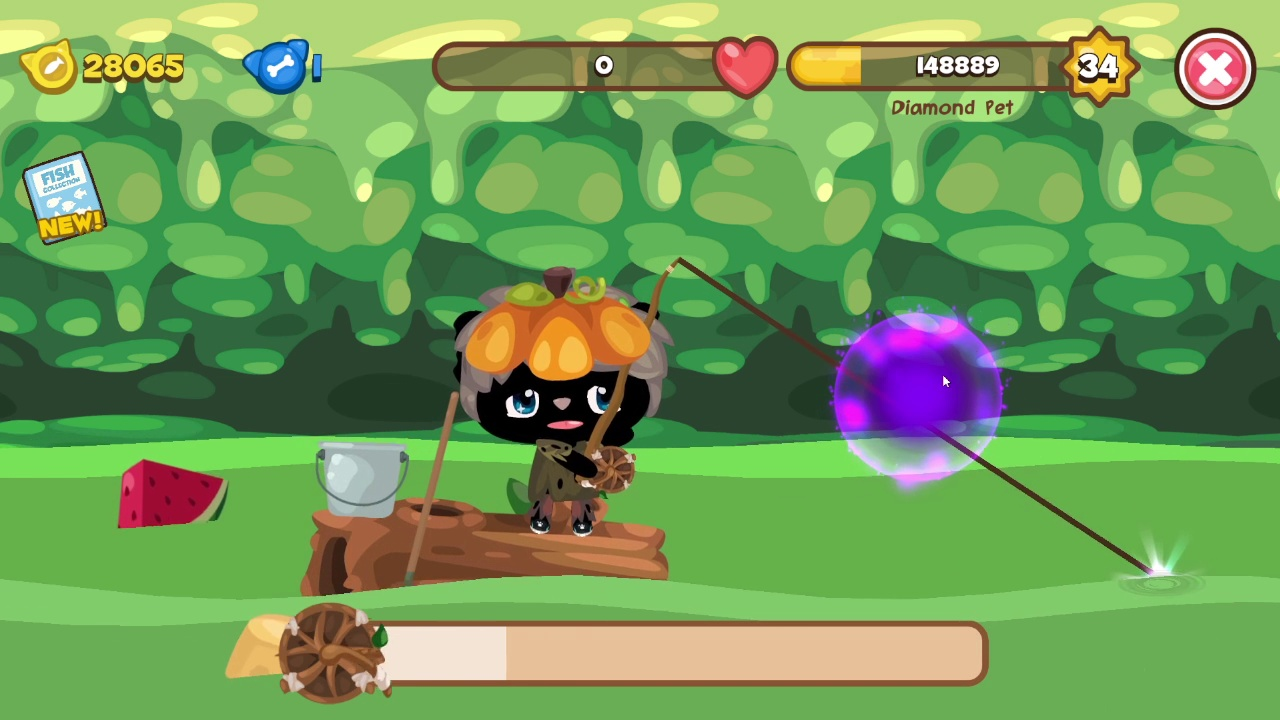point: (831, 315, 1005, 484)
